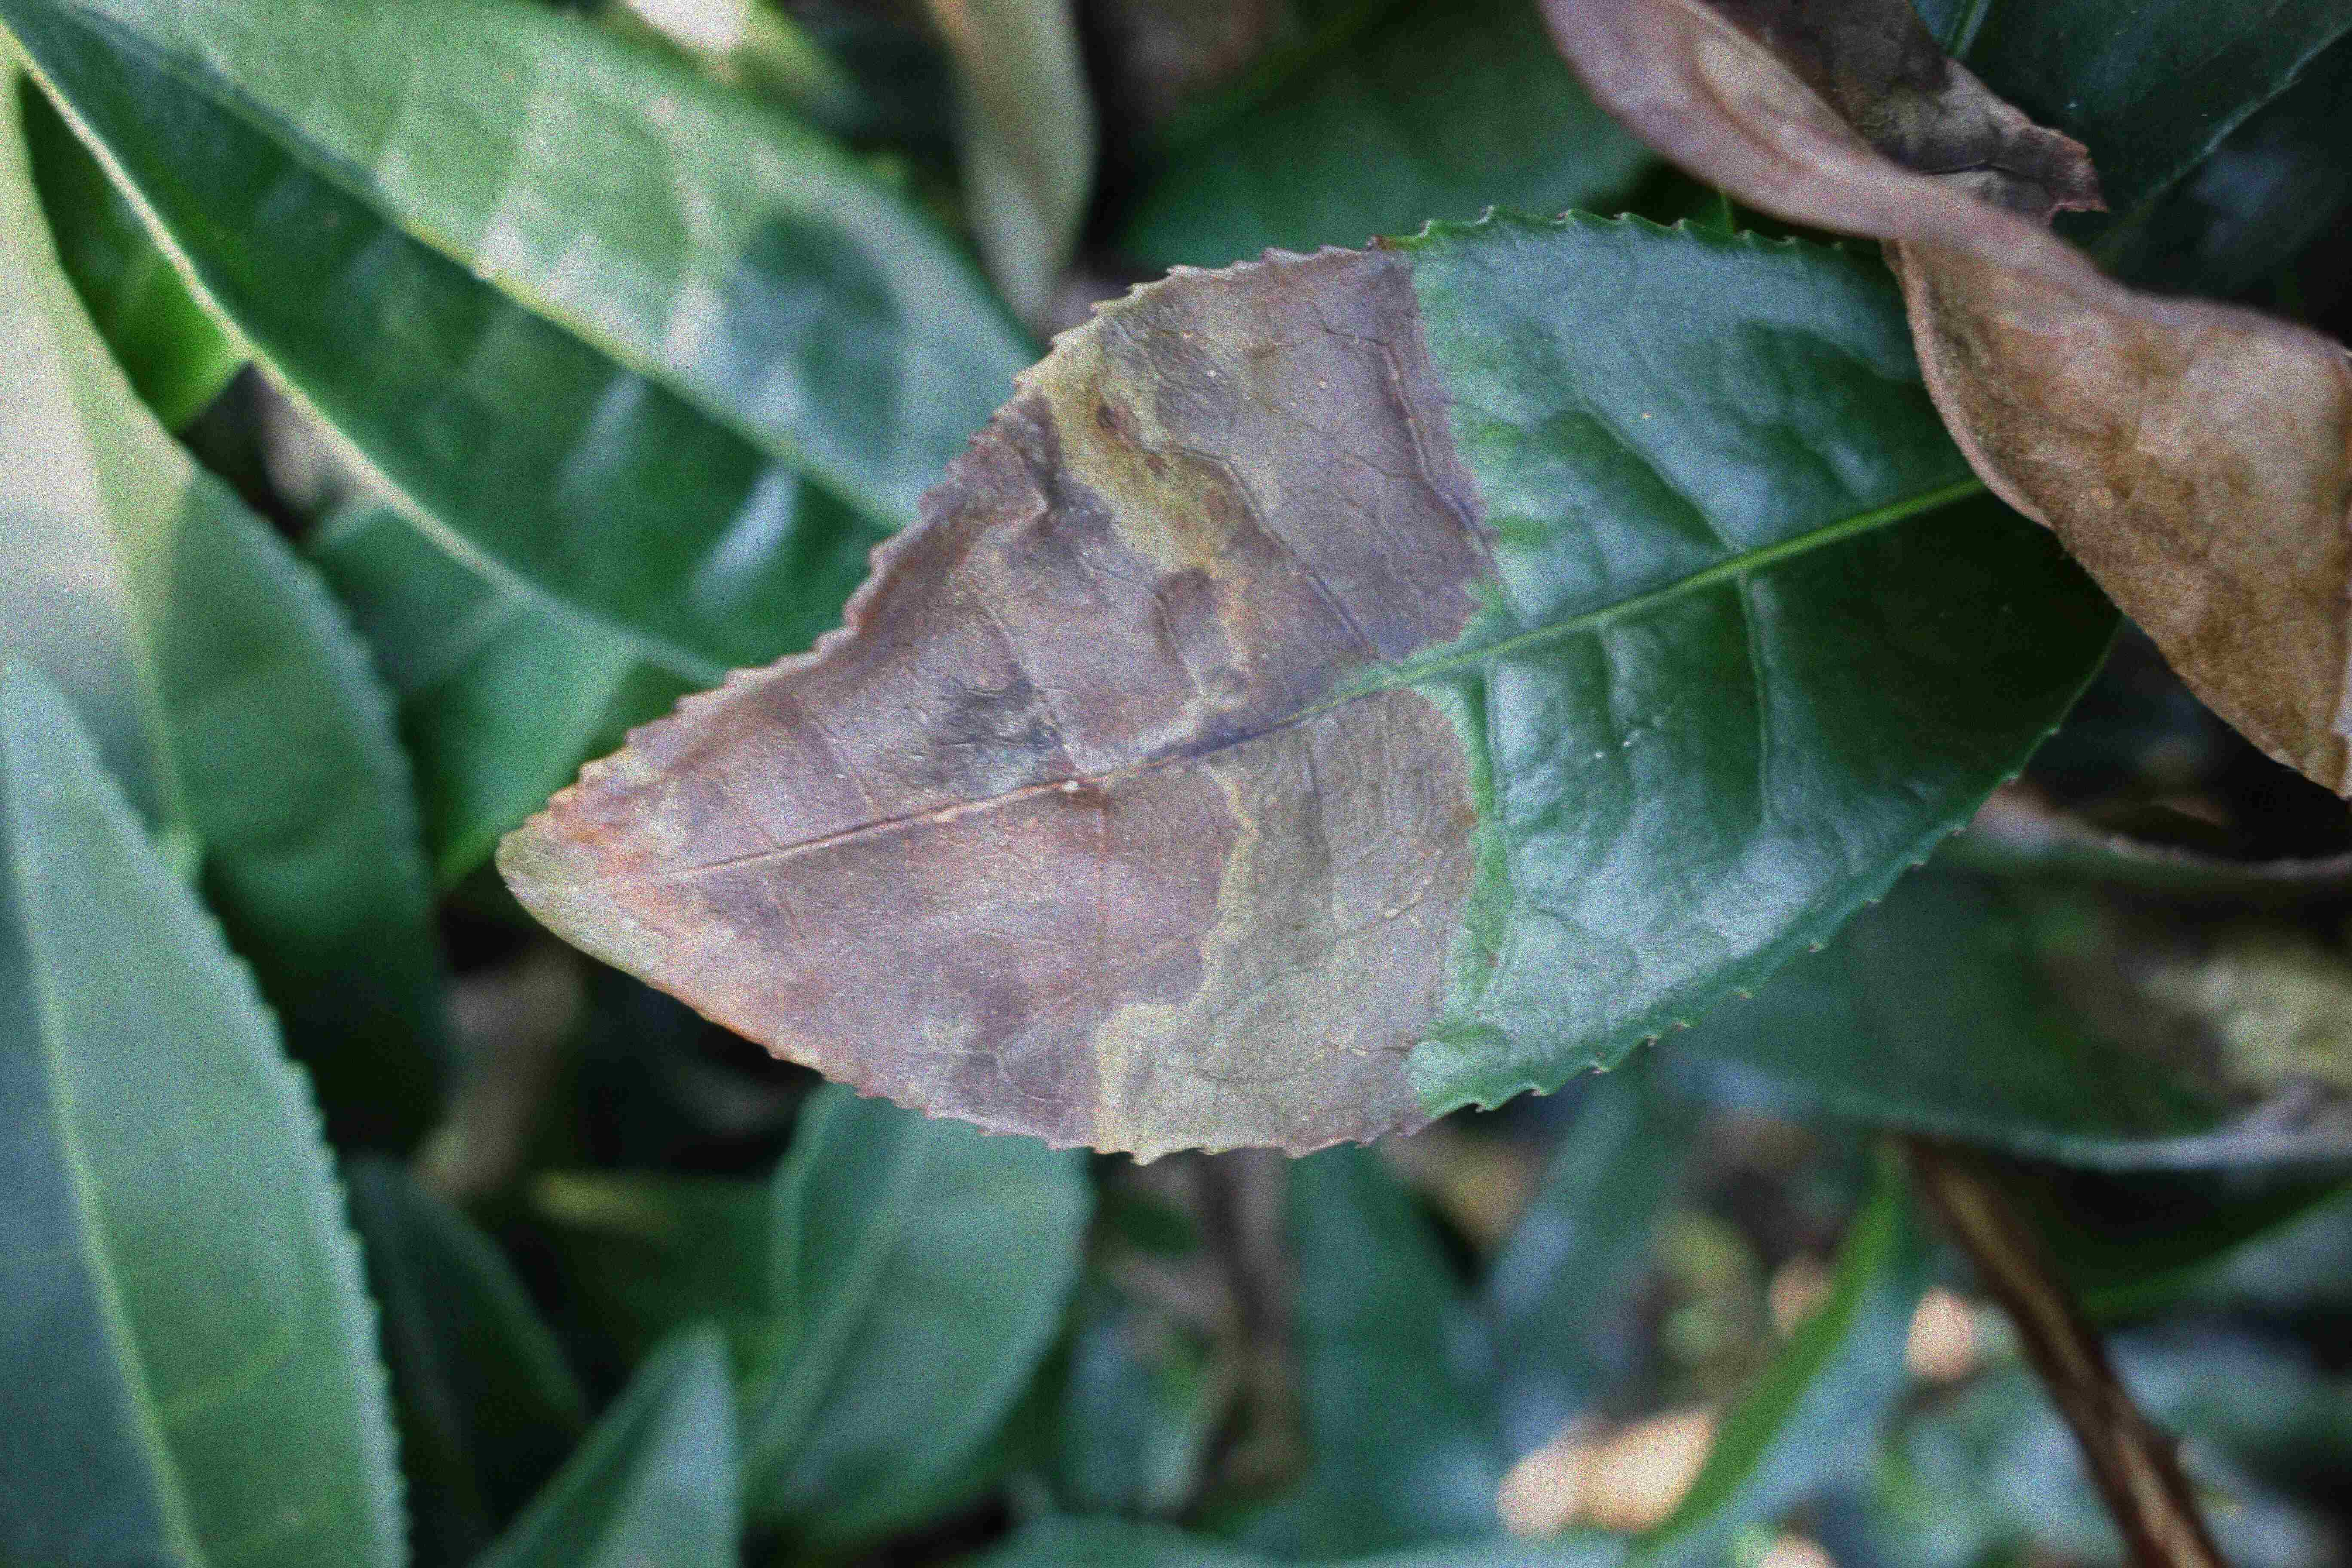tanju_high: (495, 199, 1913, 1169)
